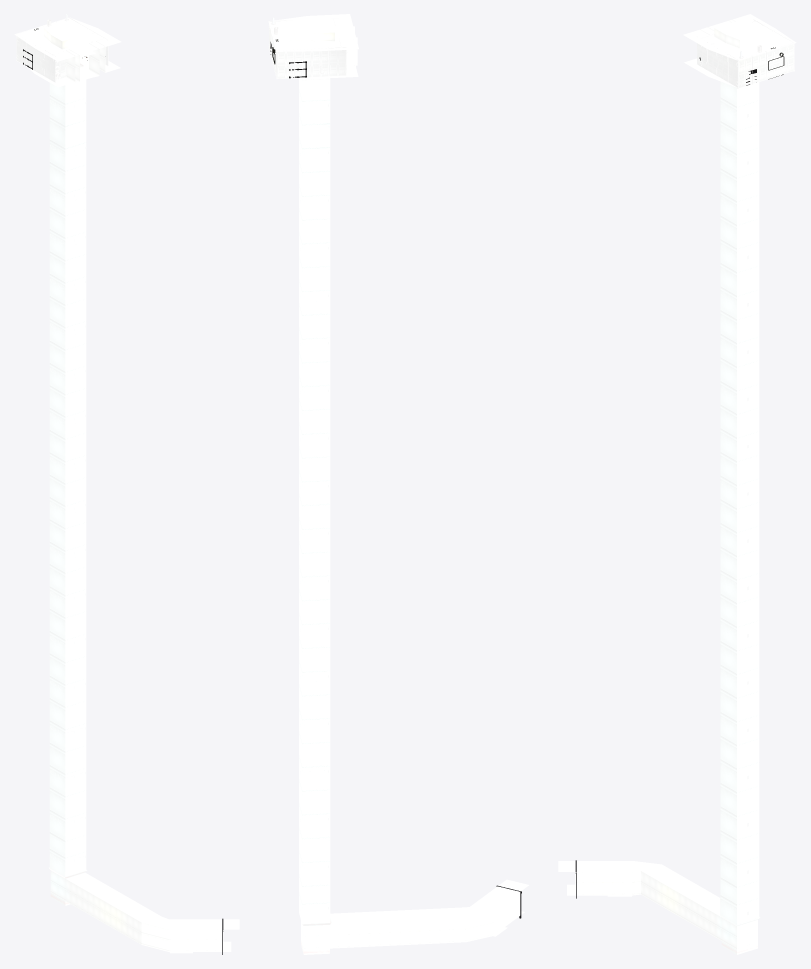
The model's file is fortshaft.glb.
The picture shows the model from 3 angles, left to right: view 1: azimuth 90°, elevation 25°; view 2: azimuth 150°, elevation 25°; view 3: azimuth 270°, elevation 25°; orthographic projection. The views are drawn at different scales.
Parts seen in each view (by area): view 1: Mesh_0.053, Mesh_0.038, Mesh_0.075, Mesh_0.059, Mesh_0.058, Mesh_0.030; view 2: Mesh_0.053, Mesh_0.038, Mesh_0.075, Mesh_0.059; view 3: Mesh_0.053, Mesh_0.075, Mesh_0.038, Mesh_0.059.
Boxes of the visible parts, x1=… form: Mesh_0.053: x1=49, y1=79, x2=86, y2=876; Mesh_0.038: x1=50, y1=41, x2=223, y2=952; Mesh_0.075: x1=14, y1=18, x2=239, y2=929; Mesh_0.059: x1=16, y1=36, x2=107, y2=82; Mesh_0.058: x1=50, y1=100, x2=85, y2=863; Mesh_0.030: x1=17, y1=55, x2=120, y2=87; Mesh_0.053: x1=299, y1=78, x2=330, y2=925; Mesh_0.038: x1=301, y1=22, x2=520, y2=949; Mesh_0.075: x1=268, y1=14, x2=528, y2=924; Mesh_0.059: x1=269, y1=27, x2=346, y2=78; Mesh_0.053: x1=720, y1=81, x2=759, y2=925; Mesh_0.075: x1=558, y1=14, x2=796, y2=916; Mesh_0.038: x1=575, y1=19, x2=757, y2=949; Mesh_0.059: x1=697, y1=43, x2=793, y2=87.
Size of what is drawn, in the model's own units: 91.69 by 466 by 110.
76 materials, 76 textured.
